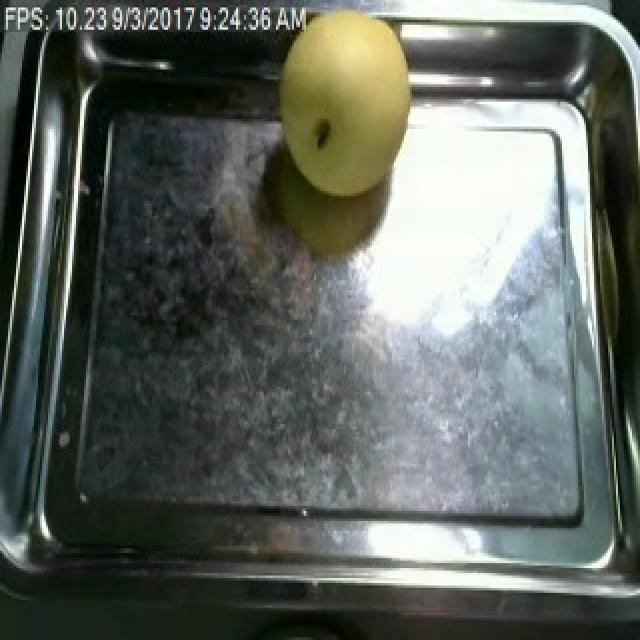Fruit: (264, 2, 424, 211)
